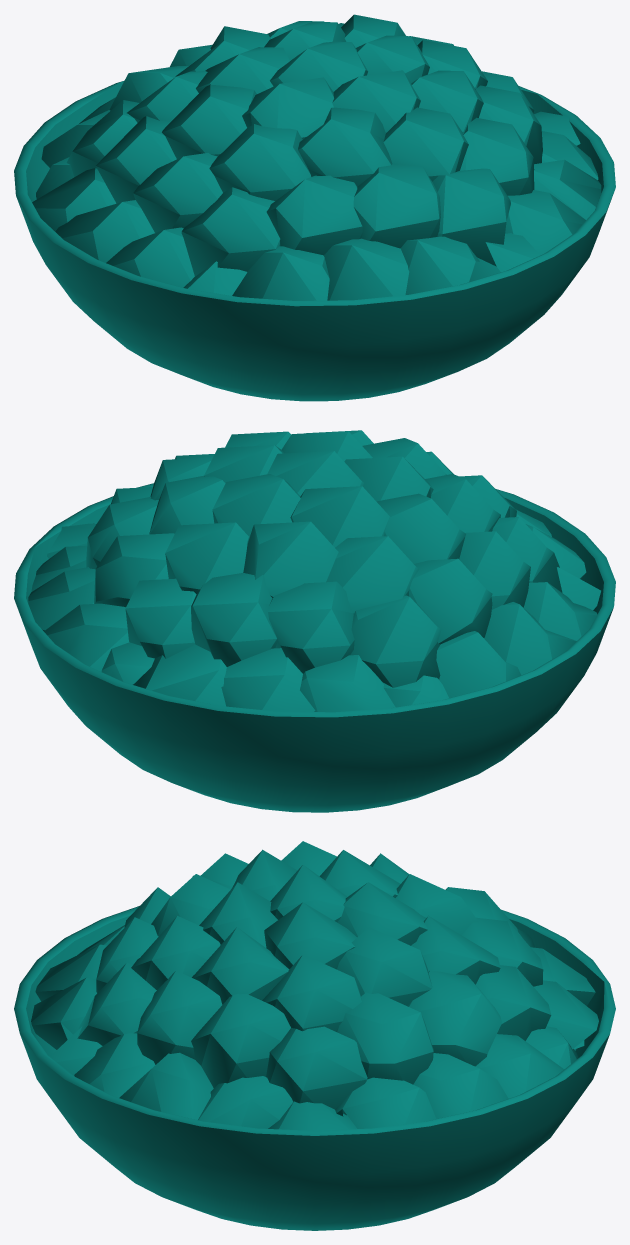
The model's file is fruitbowl.fbx.
The picture shows the model from 3 angles, top to bottom: view 1: azimuth 30°, elevation 25°; view 2: azimuth 150°, elevation 25°; view 3: azimuth 270°, elevation 25°; orthographic projection.
Parts seen in each view (by area): view 1: beryy 2; view 2: beryy 2; view 3: beryy 2.
Part boxes in pixels (x1=…): beryy 2: x1=14, y1=14, x2=615, y2=401; beryy 2: x1=14, y1=430, x2=615, y2=812; beryy 2: x1=14, y1=841, x2=615, y2=1230.
Size of the model in its own units: 0.2278 by 0.121 by 0.2278.
